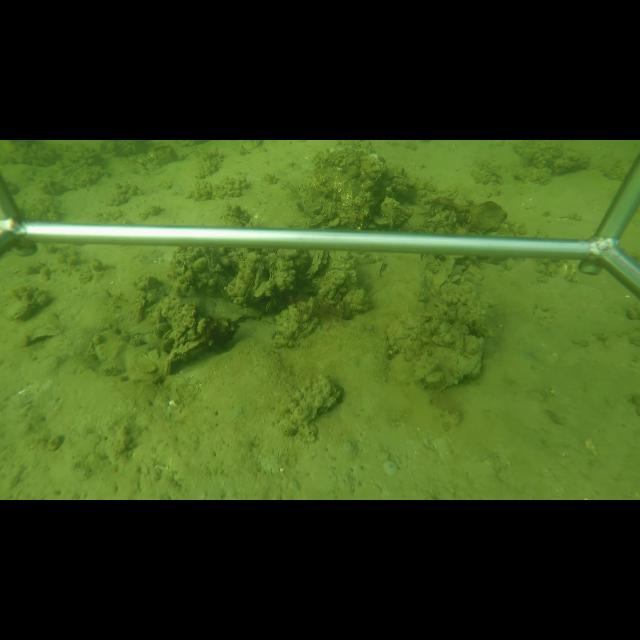Oyster-Closed: (289, 377, 342, 433), (423, 344, 483, 392), (164, 326, 213, 378), (7, 297, 42, 324), (244, 262, 262, 303), (301, 250, 323, 279)
Oyster-Open: (24, 323, 63, 345)
